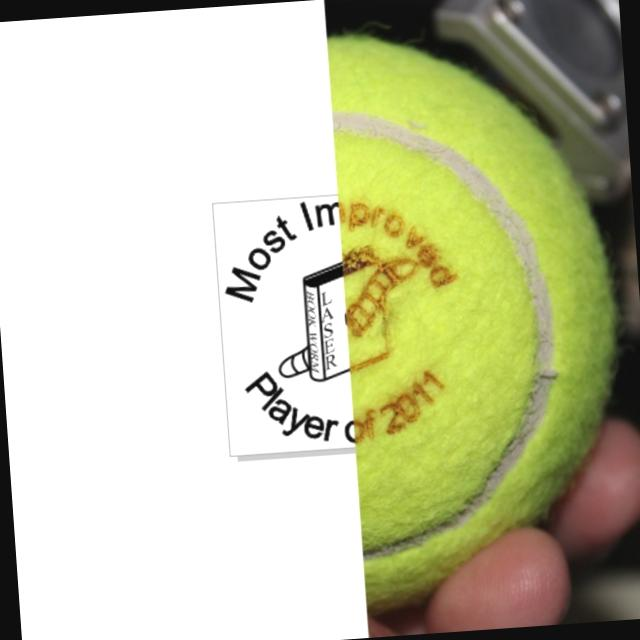Tennis Ball: (324, 13, 636, 618)
